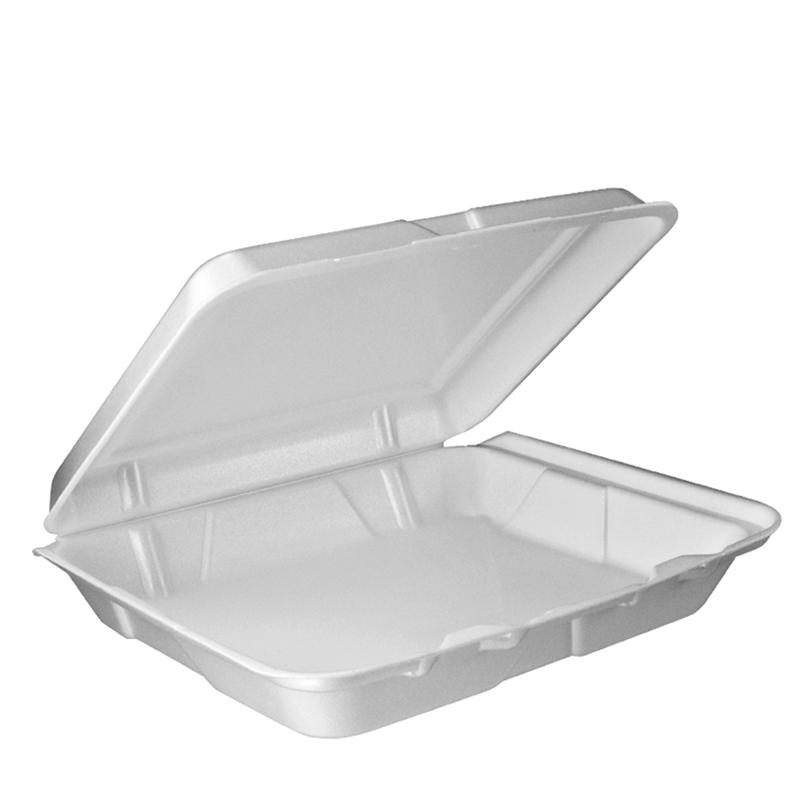styrofoam: (36, 171, 779, 742)
